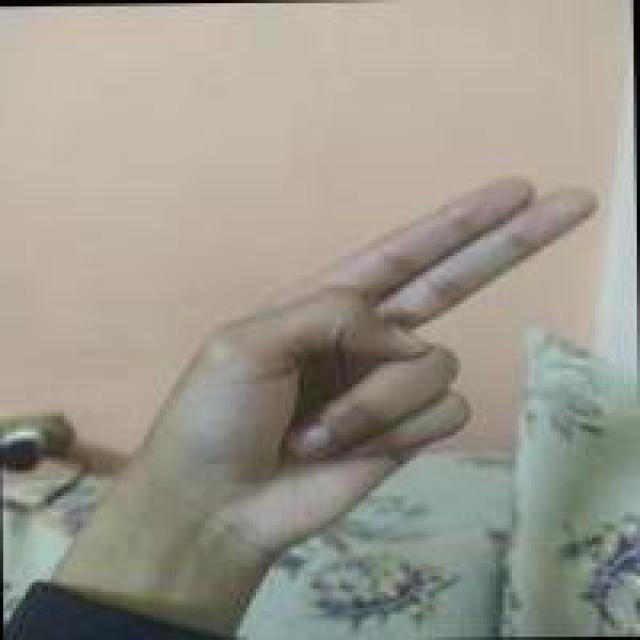H: (146, 165, 603, 539)
